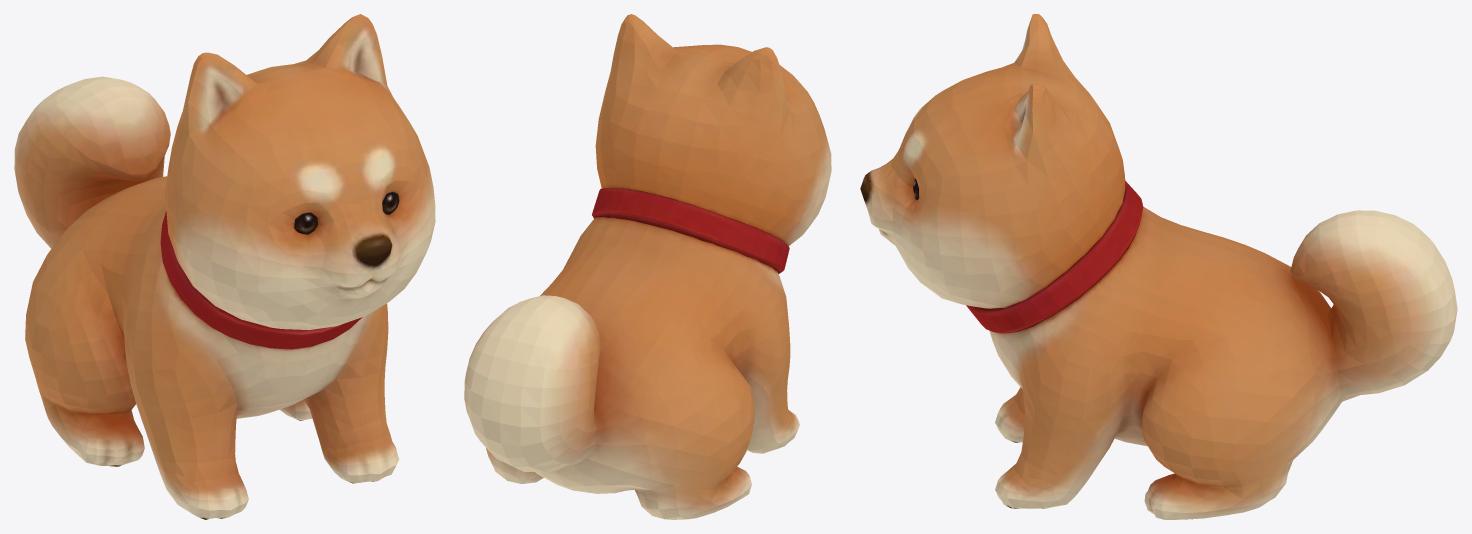
File: shiba.glb
3 views of the same model, side by side, from view 1: azimuth 30°, elevation 25°; view 2: azimuth 150°, elevation 25°; view 3: azimuth 270°, elevation 25° (orthographic). The views are drawn at different scales.
Parts seen in each view (by area): view 1: Group18985_default_0; view 2: Group18985_default_0; view 3: Group18985_default_0.
Boxes of the visible parts, left/top/right/bottom form: Group18985_default_0: left=14, top=14, right=435, bottom=519; Group18985_default_0: left=464, top=14, right=831, bottom=519; Group18985_default_0: left=860, top=14, right=1457, bottom=519.
Bounding box in the file's own units: 0.9209 × 1.38 × 1.77.
Materials: 1 (1 with a texture image).
